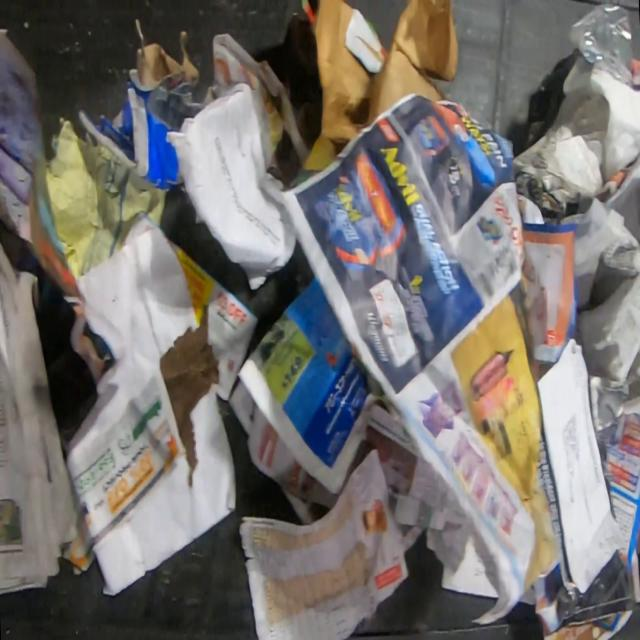cardboard: (299, 0, 462, 173), (77, 28, 202, 192), (597, 393, 640, 609)
soft_plastic: (566, 2, 640, 89)
